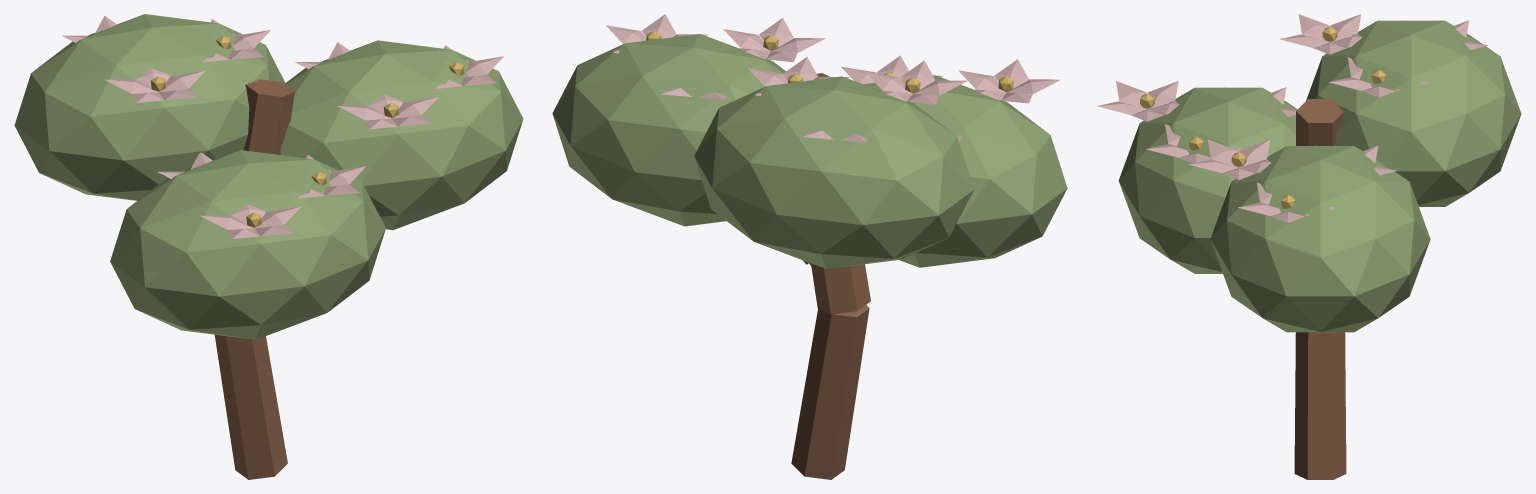
File: village_01.glb
3 views of the same model, side by side, from view 1: azimuth 30°, elevation 25°; view 2: azimuth 150°, elevation 25°; view 3: azimuth 270°, elevation 25° (orthographic). The views are drawn at different scales.
Parts seen in each view (by area): view 1: village_01; view 2: village_01; view 3: village_01.
Part boxes in pixels (bbox=[...]): village_01: bbox=[14, 14, 523, 479]; village_01: bbox=[552, 14, 1067, 479]; village_01: bbox=[1097, 14, 1521, 479].
Size of the model in its own units: 2.97 by 2.81 by 2.62.
